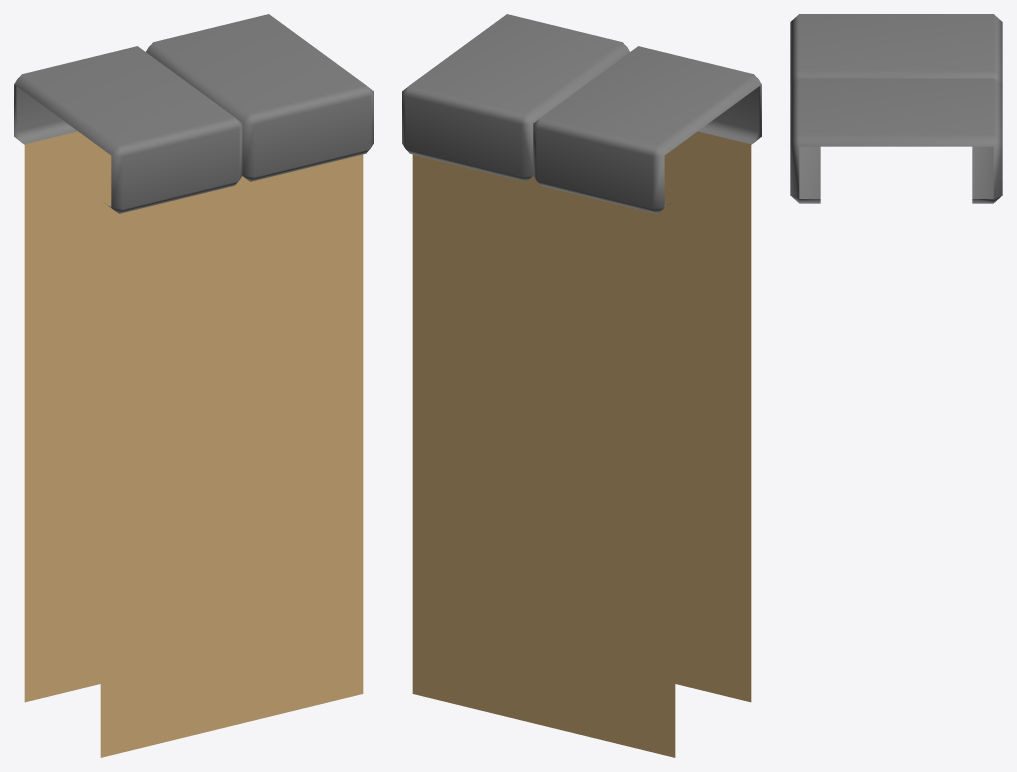
Rendered from SM_WallB_2x4_LOD0.fbx.
3 views of the same model, side by side, from view 1: azimuth 30°, elevation 25°; view 2: azimuth 150°, elevation 25°; view 3: azimuth 270°, elevation 25° (orthographic).
Visible parts, largest first — view 1: SM_WallB_2x4_LOD0; view 2: SM_WallB_2x4_LOD0; view 3: SM_WallB_2x4_LOD0.
Part boxes in pixels (x1,y1,x2,y2): SM_WallB_2x4_LOD0: (14,14,373,757); SM_WallB_2x4_LOD0: (402,14,761,757); SM_WallB_2x4_LOD0: (790,14,1002,203).
Bounding box in the file's own units: 2 × 4.5 × 1.4.
